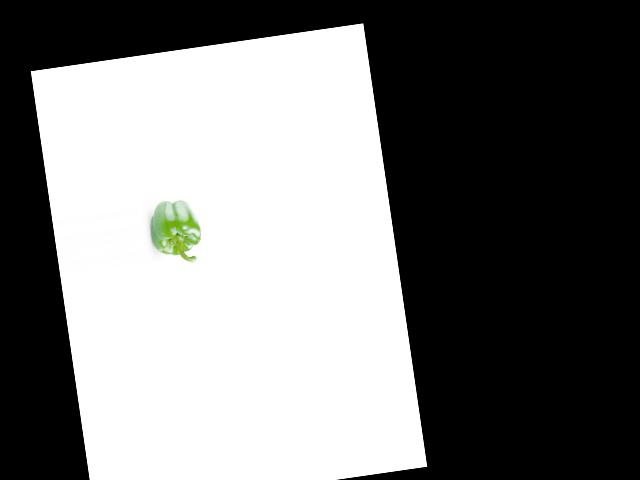bell_pepper: (147, 194, 205, 268)
